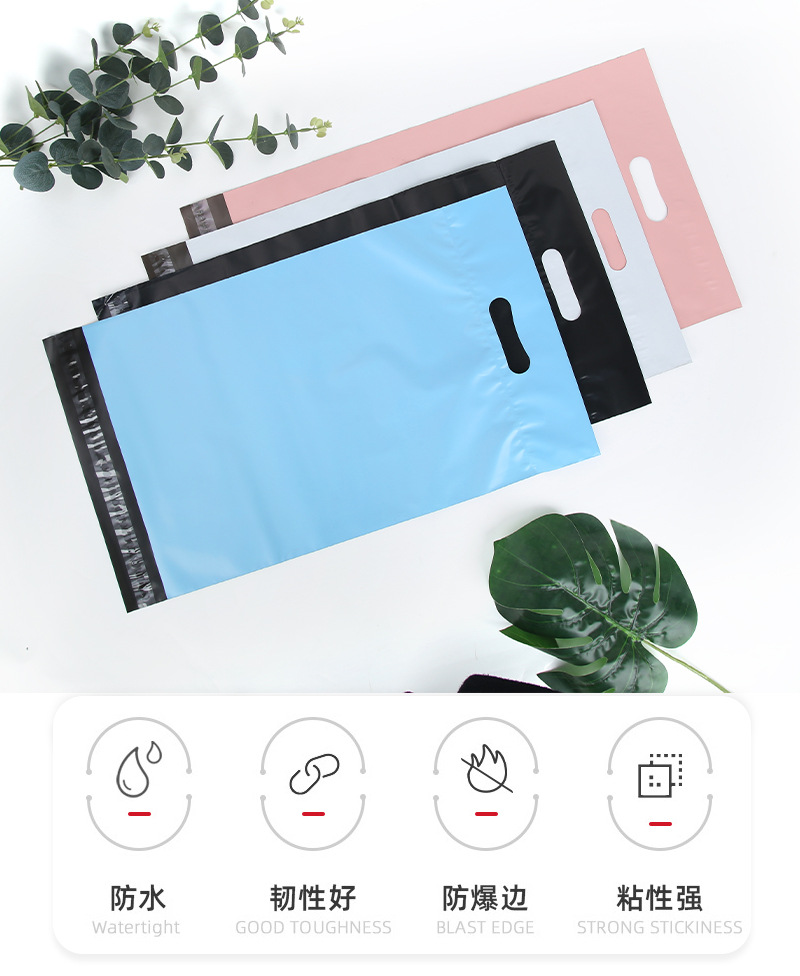塑料袋: (10, 47, 771, 614)
